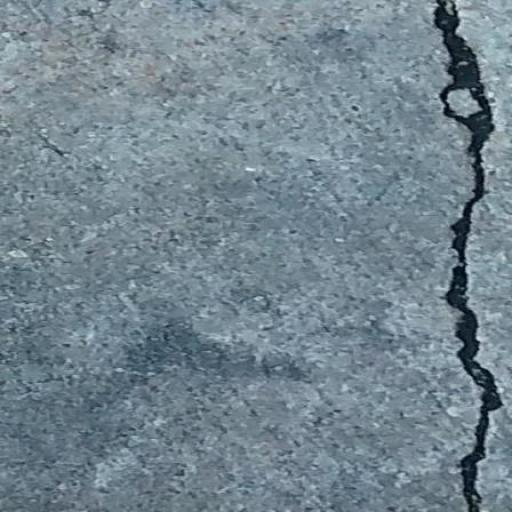spalling: (420, 2, 511, 503)
